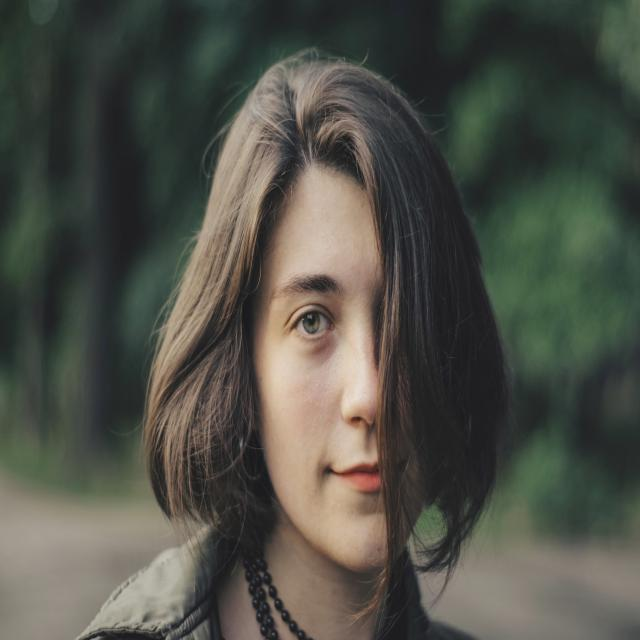adult: (83, 44, 509, 640)
